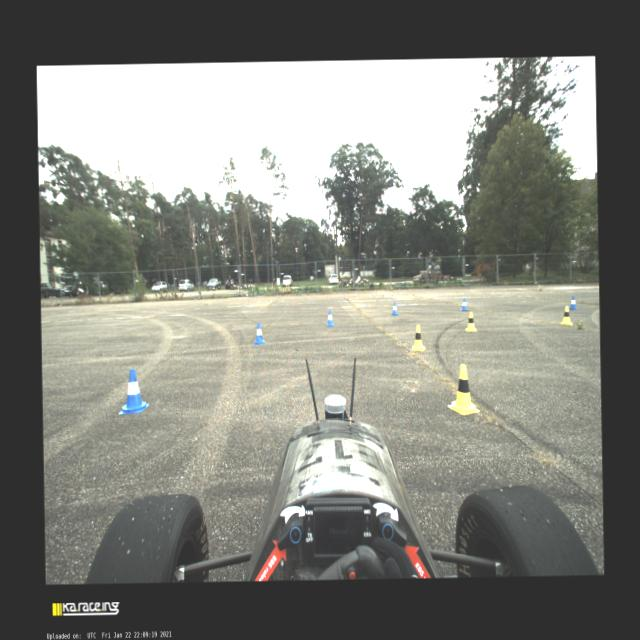blue_cone: (117, 368, 148, 416), (252, 322, 264, 344), (326, 310, 334, 326), (568, 296, 577, 310), (460, 298, 468, 311), (391, 301, 398, 315)
yellow_cone: (446, 364, 479, 414), (410, 324, 426, 351), (464, 312, 476, 332), (560, 306, 572, 324)
